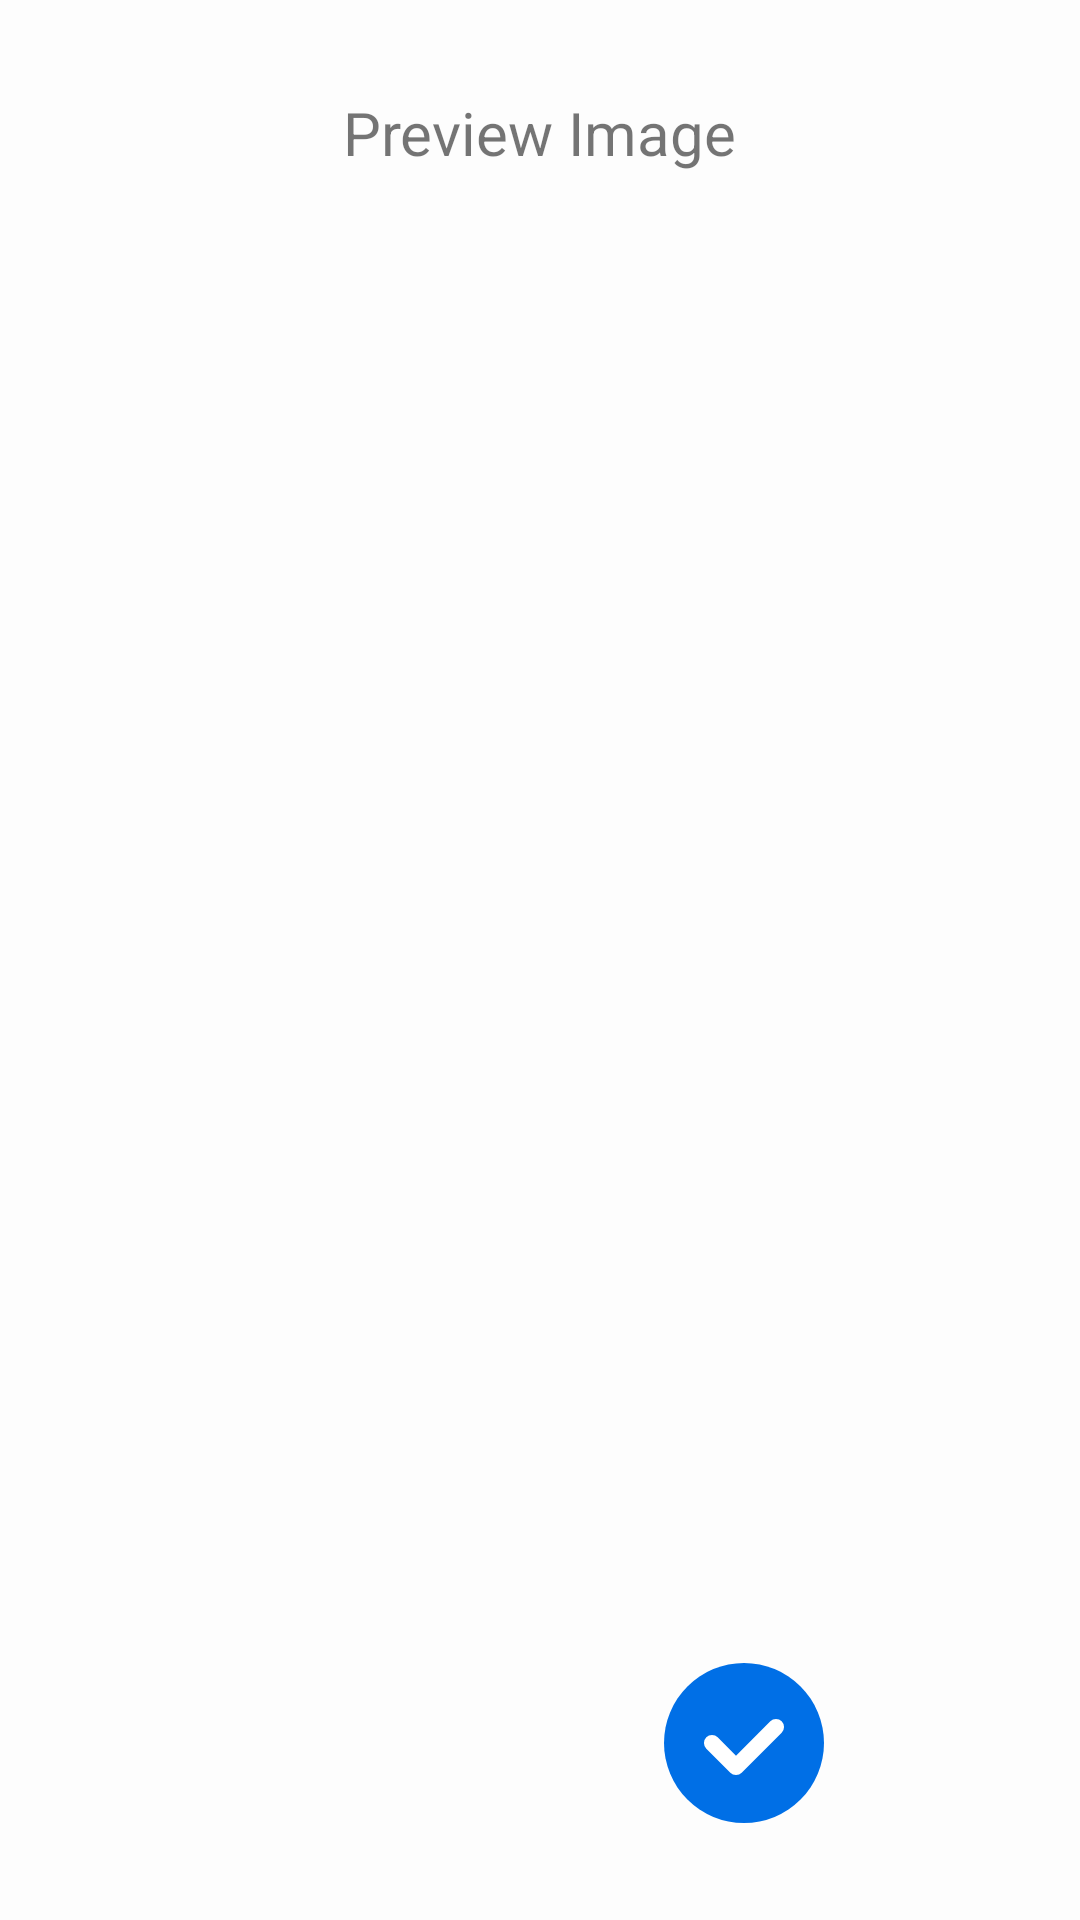

Icon click points for this 1080w x 1920h phone screenshot, format (x,y):
check: (744,1743)
